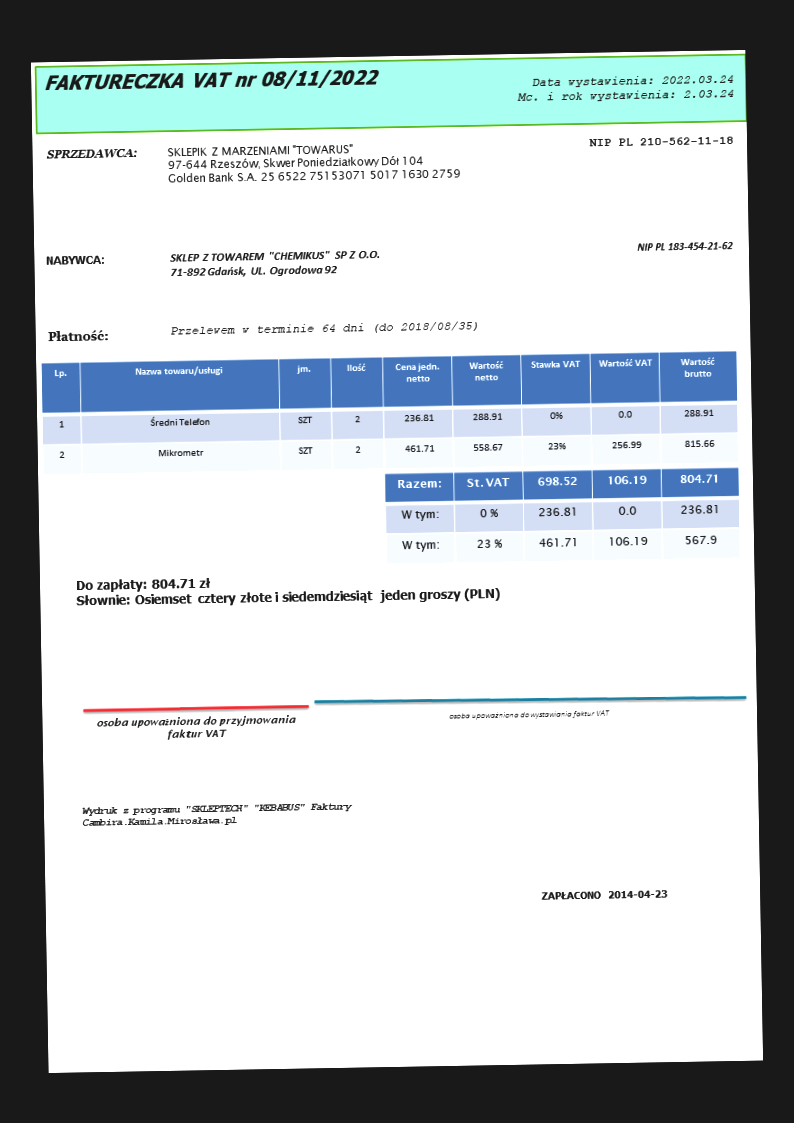Table: (40, 347, 739, 475), (383, 466, 742, 568)
TextBox: (72, 571, 503, 612), (165, 140, 462, 188), (41, 64, 381, 95), (79, 798, 353, 831), (515, 71, 736, 105), (167, 247, 379, 280), (94, 712, 298, 744), (168, 318, 479, 337), (586, 133, 735, 150), (446, 708, 613, 723), (539, 887, 670, 902), (43, 144, 138, 161), (634, 238, 734, 254), (46, 327, 109, 344), (42, 251, 106, 267)
